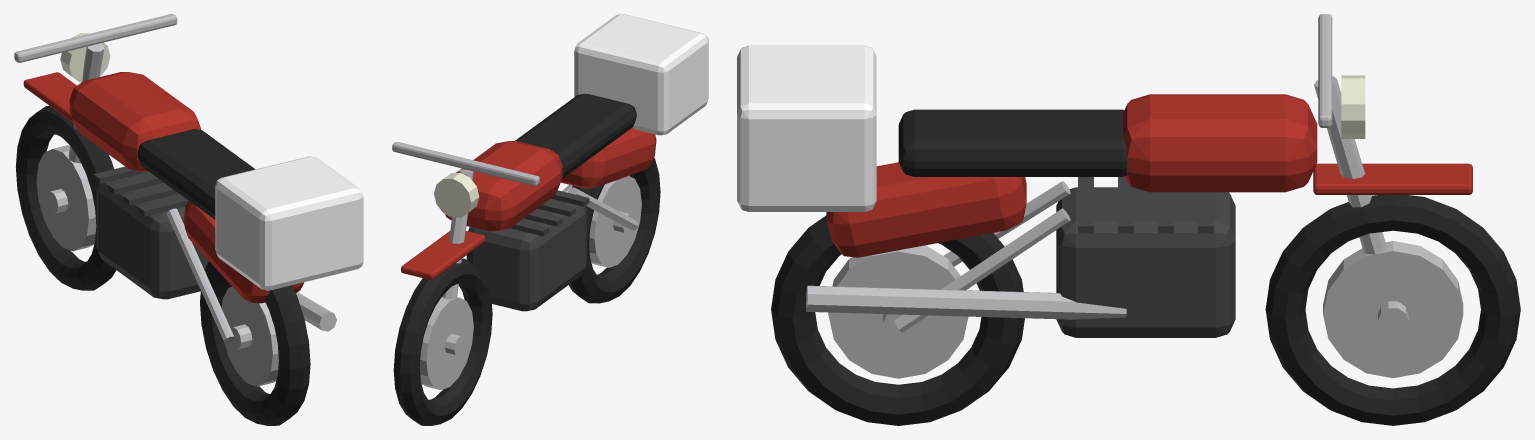
The model's file is motosiklet.glb.
The picture shows the model from 3 angles, left to right: view 1: azimuth 30°, elevation 25°; view 2: azimuth 150°, elevation 25°; view 3: azimuth 270°, elevation 25°; orthographic projection. The views are drawn at different scales.
Visible parts, largest first — view 1: ArkaGovde; view 2: ArkaGovde; view 3: ArkaGovde.
Part boxes in pixels (x1=…): ArkaGovde: x1=14, y1=14, x2=363, y2=425; ArkaGovde: x1=392, y1=14, x2=708, y2=425; ArkaGovde: x1=737, y1=14, x2=1520, y2=425.
Bounding box in the file's own units: 0.3155 × 0.5076 × 1.
